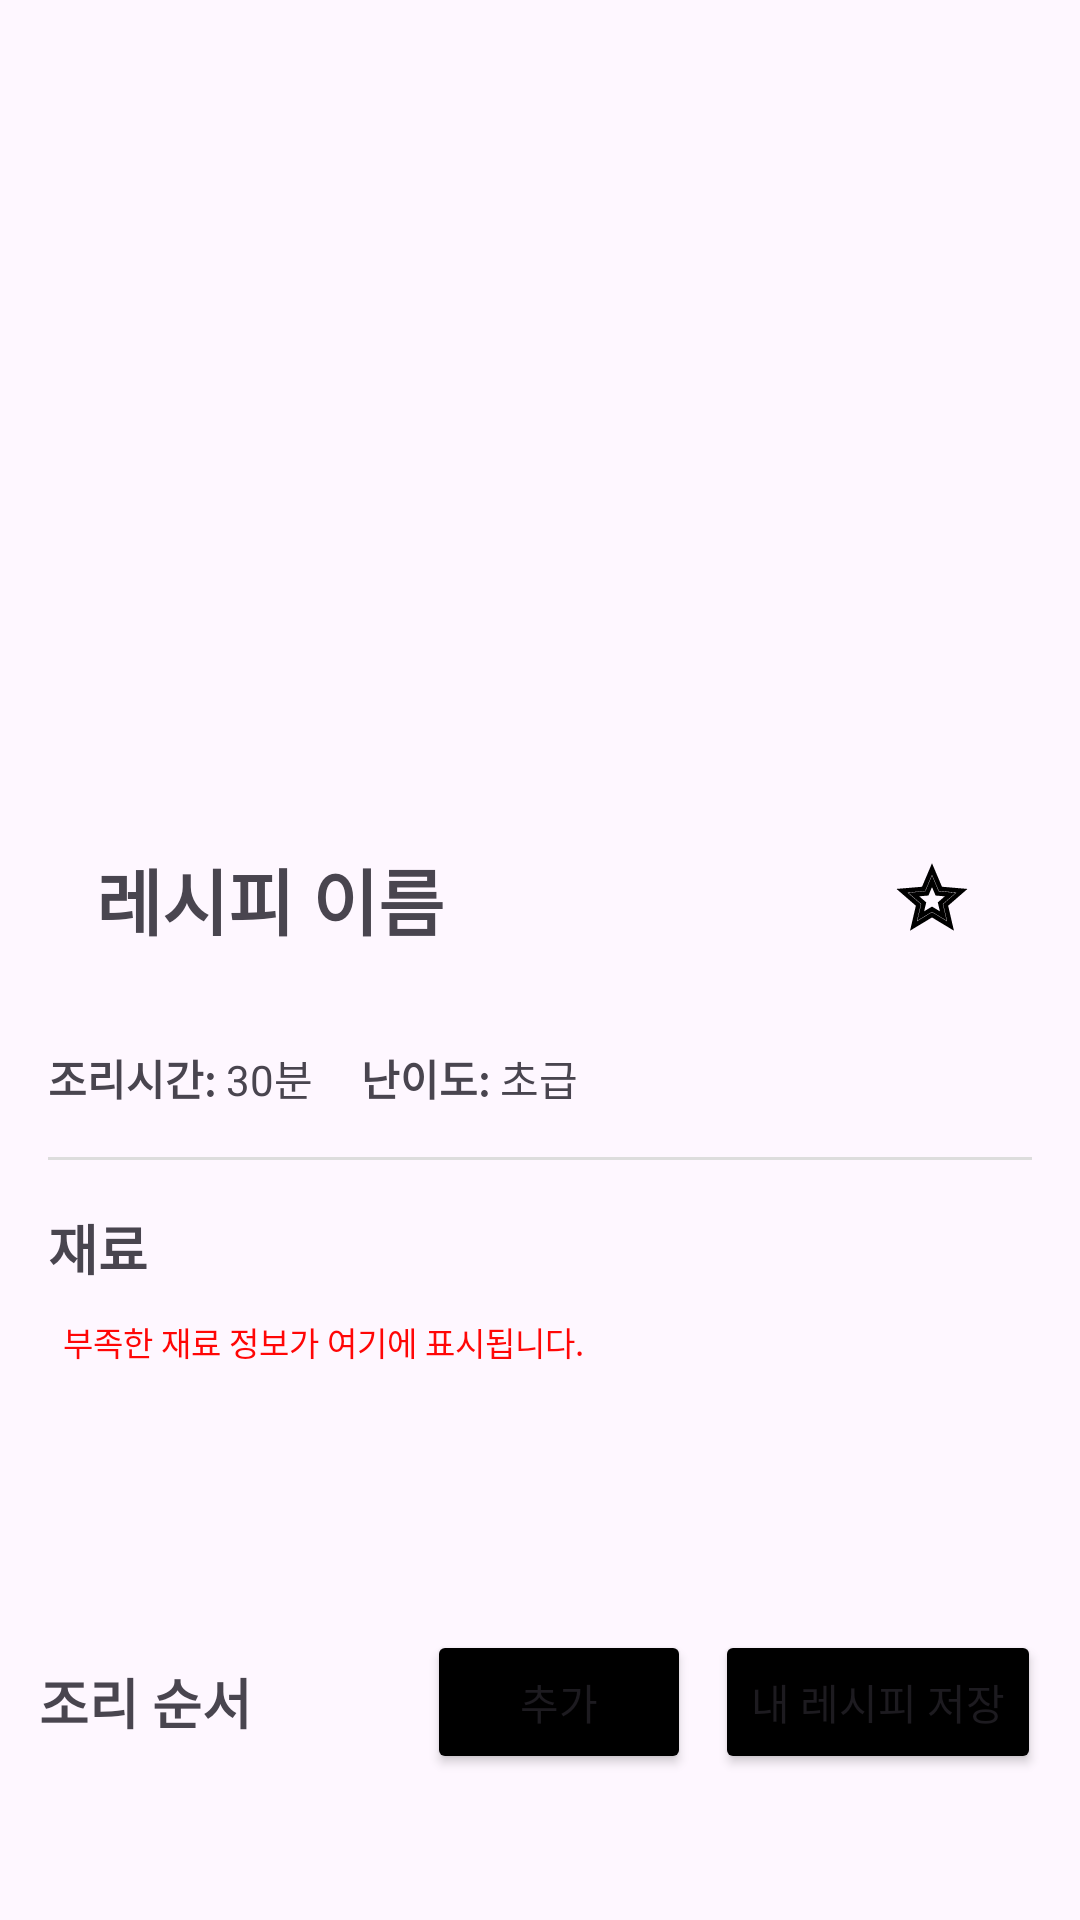

Point at icon controls on the screen. Image size 1080px×1920px, points as (x,y).
즐겨찾기: (932,897)
